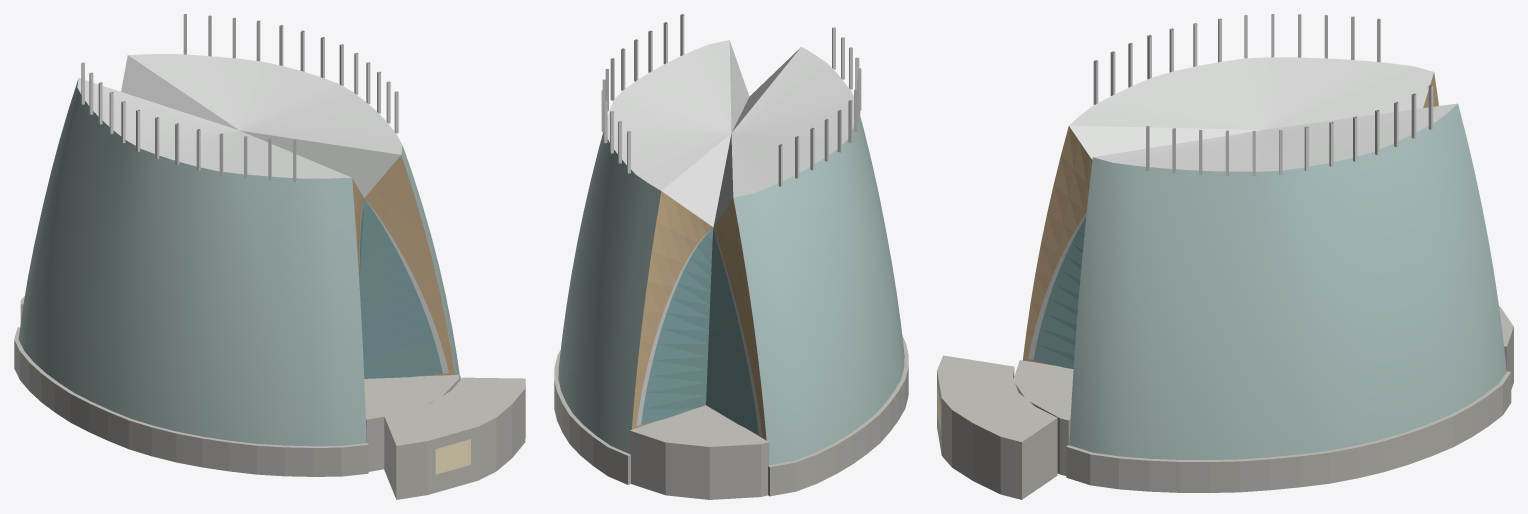
3 renders of one model, left to right at view 1: azimuth 30°, elevation 25°; view 2: azimuth 150°, elevation 25°; view 3: azimuth 270°, elevation 25°, orthographic. The views are drawn at different scales.
Visible parts, largest first — view 1: cathedral-of-christ-the-light; view 2: cathedral-of-christ-the-light; view 3: cathedral-of-christ-the-light.
Boxes of the visible parts, x1,y1,x2,y2 form: cathedral-of-christ-the-light: (14,14,525,499); cathedral-of-christ-the-light: (554,14,908,499); cathedral-of-christ-the-light: (937,14,1513,499).
Bounding box in the file's own units: 48.67 × 43.95 × 68.28.
